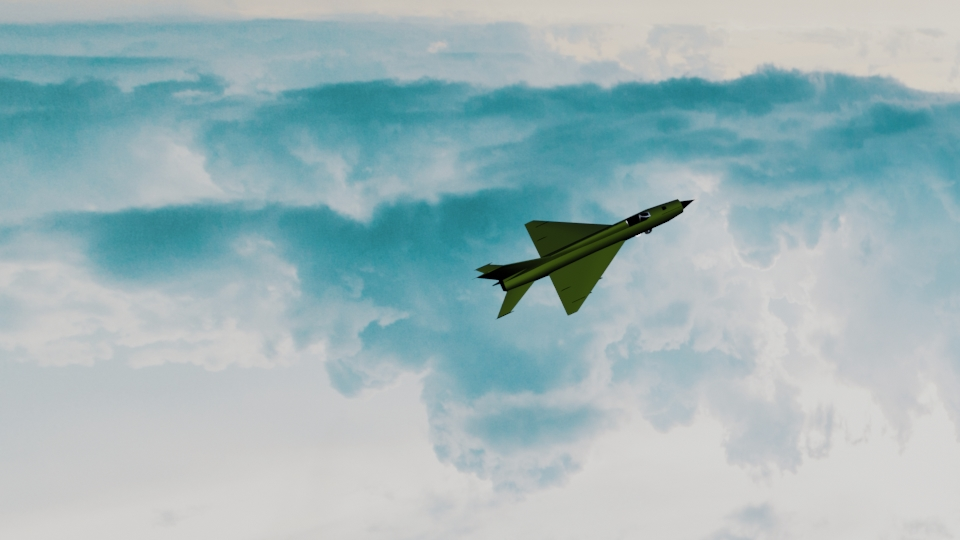plane: (471, 193, 695, 318)
